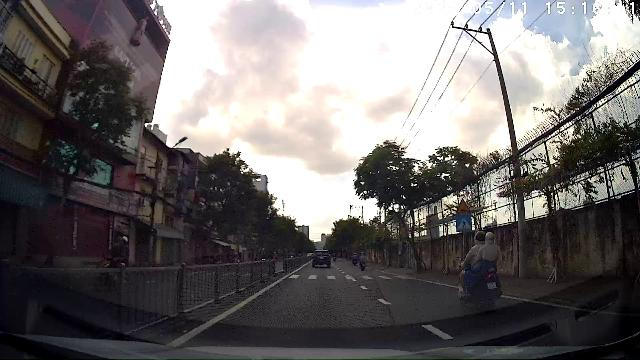423a-duong-nguoi-di-bo-sang-ngang-1: (456, 214, 472, 232)
